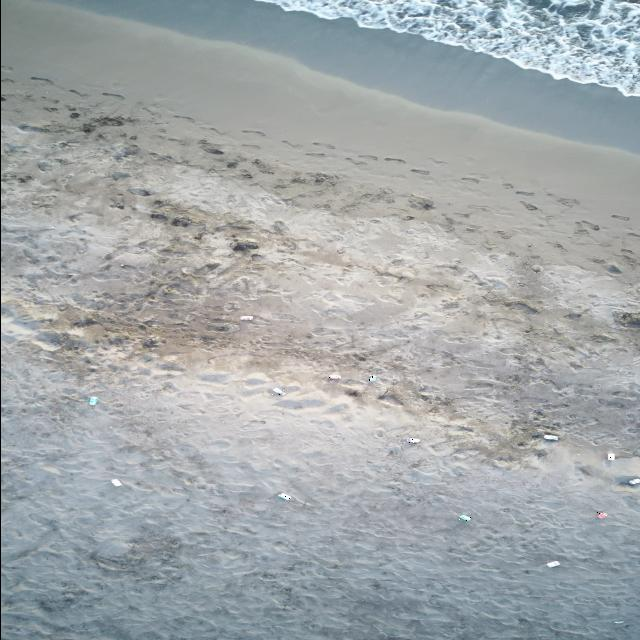Garbage: (232, 240, 258, 251), (128, 187, 151, 195), (404, 436, 420, 444), (276, 492, 291, 500), (595, 511, 607, 519), (544, 433, 557, 440), (547, 560, 559, 567), (88, 396, 98, 404), (273, 387, 283, 395), (628, 477, 639, 484), (328, 373, 339, 380), (532, 263, 540, 272), (458, 514, 470, 520), (240, 315, 252, 320), (368, 375, 376, 382), (111, 479, 119, 486), (607, 452, 613, 460), (612, 620, 623, 623)
